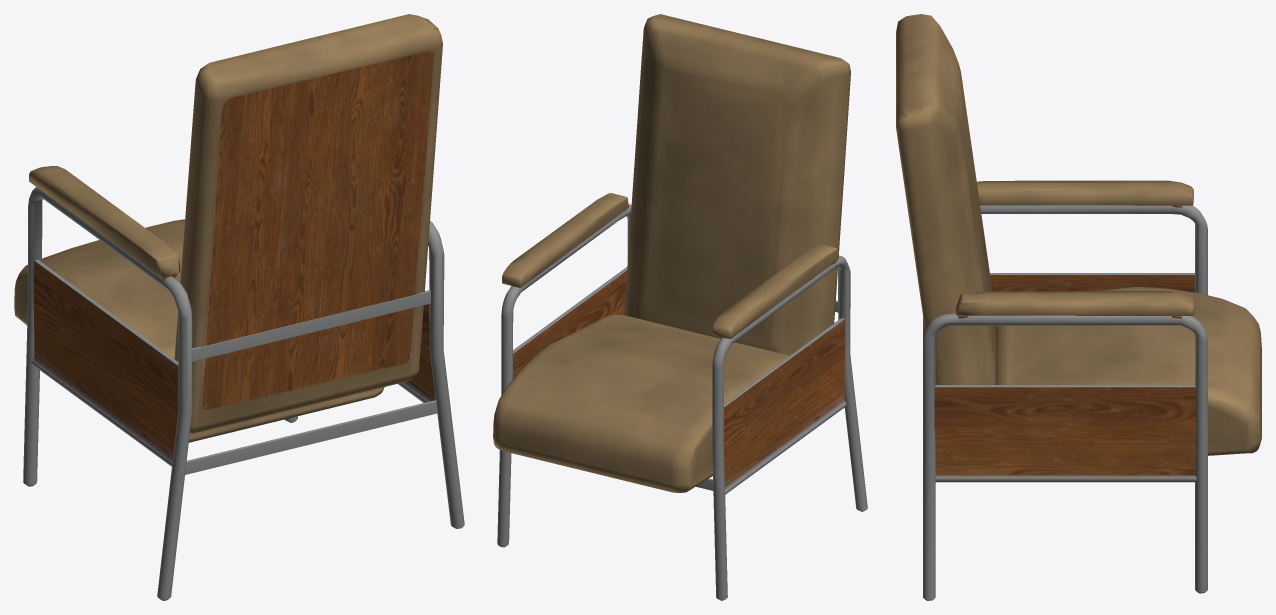
File: hospital-chair.glb
The picture shows the model from 3 angles, left to right: view 1: azimuth 30°, elevation 25°; view 2: azimuth 150°, elevation 25°; view 3: azimuth 270°, elevation 25°; orthographic projection. The views are drawn at different scales.
Visible parts, largest first — view 1: defaultMaterial; view 2: defaultMaterial; view 3: defaultMaterial.
Boxes of the visible parts, x1,y1,x2,y2 form: defaultMaterial: (14,14,464,600); defaultMaterial: (493,14,867,600); defaultMaterial: (896,14,1261,600).
Size of the model in its own units: 1.22 by 2 by 1.4.
Materials: 1 (1 with a texture image).
